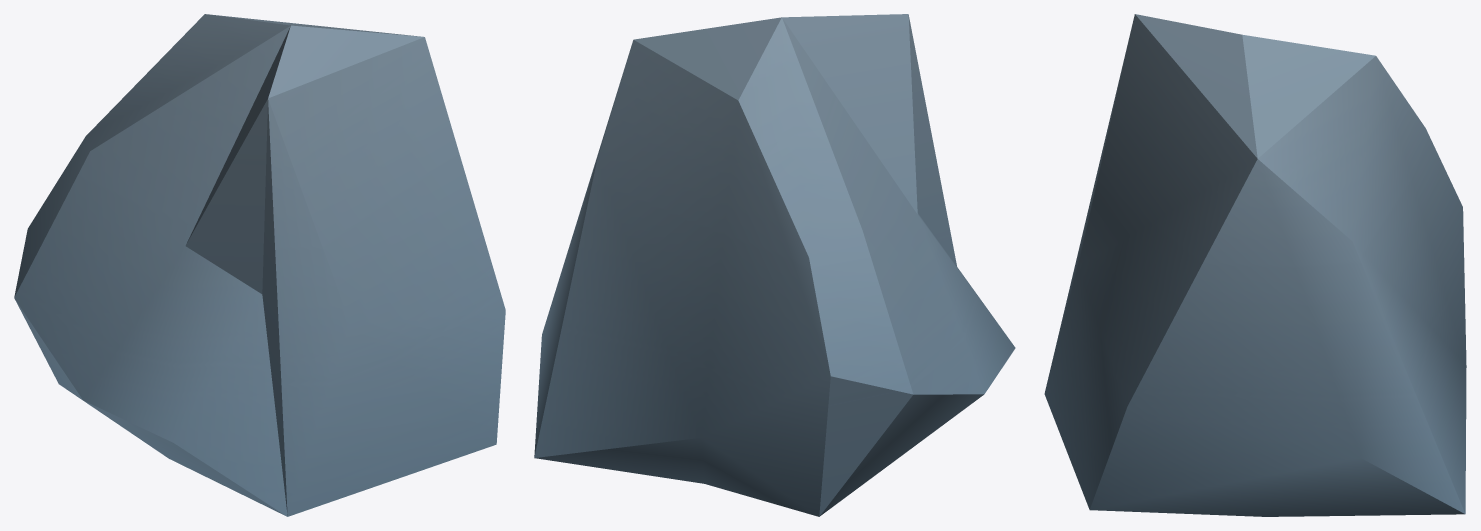
The model's file is Rock_01.glb.
3 views of the same model, side by side, from view 1: azimuth 30°, elevation 25°; view 2: azimuth 150°, elevation 25°; view 3: azimuth 270°, elevation 25° (orthographic). The views are drawn at different scales.
Parts seen in each view (by area): view 1: Rock_01; view 2: Rock_01; view 3: Rock_01.
Part boxes in pixels (left/top/right/bottom): Rock_01: left=14, top=14, right=505, bottom=516; Rock_01: left=534, top=14, right=1015, bottom=516; Rock_01: left=1044, top=14, right=1466, bottom=516.
Size of the model in its own units: 1.06 by 1.04 by 0.9702.
1 material, 1 textured.
